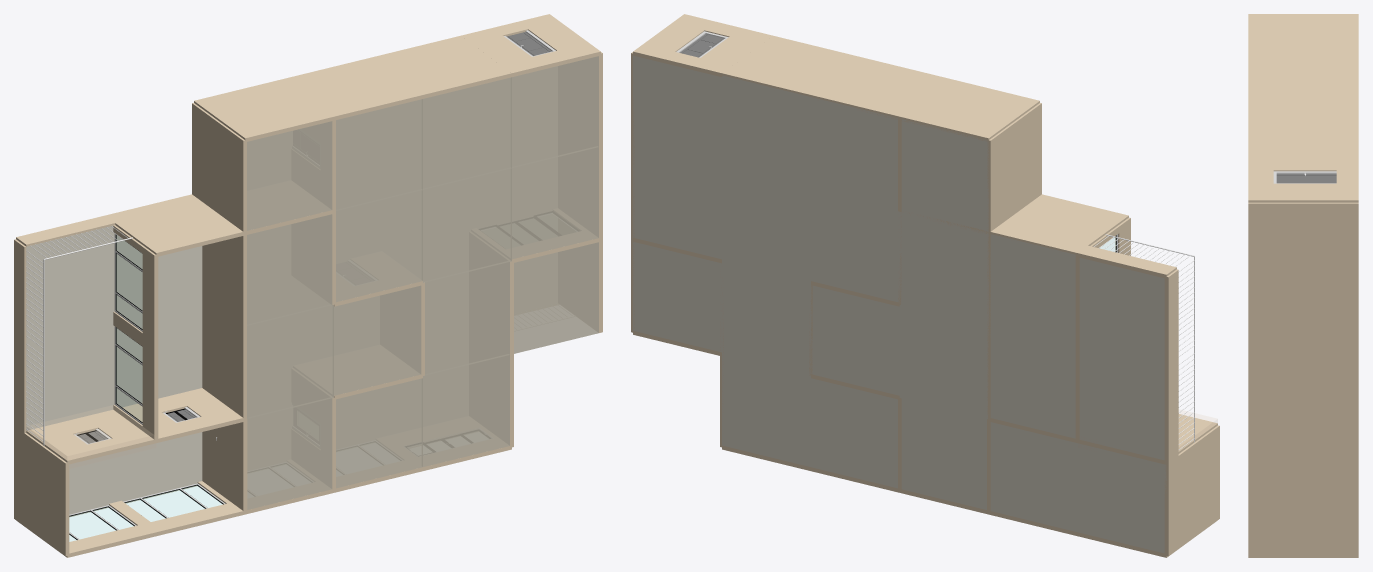
Rendered from 1_patrick.gltf.
The picture shows the model from 3 angles, left to right: view 1: azimuth 30°, elevation 25°; view 2: azimuth 150°, elevation 25°; view 3: azimuth 270°, elevation 25°; orthographic projection. The views are drawn at different scales.
Parts seen in each view (by area): view 1: ceiling_5, floor_3, ceiling_2, ceiling_8, floor_2, ceiling_6, ceiling_4, ceiling_12, ceiling_1, ceiling_3, ceiling_13, ceiling_9 (+37 smaller); view 2: floor_7, floor_8, floor_2_1, floor_13, floor_5_1, floor_6, floor_3_1, floor_6_1, floor_12, floor_4_1, floor_1_1, floor_5 (+22 smaller); view 3: wall_4_1, wall_5, wall_10, wall_9, wall_2_1, wall_1_1, wall_3_1, SIP_5_1, Door_3, DoorFrame_3.
Part boxes in pixels (x1=…): ceiling_5: x1=423, y1=168, x2=511, y2=282; floor_3: x1=26, y1=225, x2=114, y2=339; ceiling_2: x1=423, y1=77, x2=511, y2=189; ceiling_8: x1=247, y1=305, x2=333, y2=418; floor_2: x1=26, y1=318, x2=114, y2=430; ceiling_6: x1=336, y1=190, x2=422, y2=302; ceiling_4: x1=512, y1=147, x2=598, y2=259; ceiling_12: x1=423, y1=355, x2=509, y2=466; ceiling_1: x1=336, y1=99, x2=422, y2=210; ceiling_3: x1=512, y1=56, x2=598, y2=168; ceiling_13: x1=425, y1=262, x2=509, y2=375; ceiling_9: x1=247, y1=398, x2=332, y2=509; floor_7: x1=899, y1=212, x2=988, y2=325; floor_8: x1=899, y1=305, x2=988, y2=418; floor_2_1: x1=722, y1=75, x2=810, y2=189; floor_13: x1=722, y1=261, x2=810, y2=375; floor_5_1: x1=722, y1=168, x2=810, y2=282; floor_6: x1=901, y1=119, x2=988, y2=232; floor_3_1: x1=633, y1=55, x2=721, y2=168; floor_6_1: x1=811, y1=190, x2=899, y2=302; floor_12: x1=722, y1=354, x2=810, y2=466; floor_4_1: x1=633, y1=147, x2=721, y2=259; floor_1_1: x1=811, y1=97, x2=897, y2=211; floor_5: x1=989, y1=234, x2=1075, y2=347; wall_4_1: x1=1248, y1=202, x2=1358, y2=303; wall_5: x1=1248, y1=303, x2=1358, y2=403; wall_10: x1=1248, y1=403, x2=1358, y2=503; wall_9: x1=1248, y1=503, x2=1358, y2=556; wall_2_1: x1=1248, y1=60, x2=1358, y2=107; wall_1_1: x1=1248, y1=14, x2=1358, y2=60; wall_3_1: x1=1248, y1=107, x2=1358, y2=153; SIP_5_1: x1=1248, y1=153, x2=1358, y2=202; Door_3: x1=1276, y1=174, x2=1336, y2=183; DoorFrame_3: x1=1273, y1=171, x2=1336, y2=183.
Bounding box in the file's own units: 21.15 × 14.15 × 3.5.
